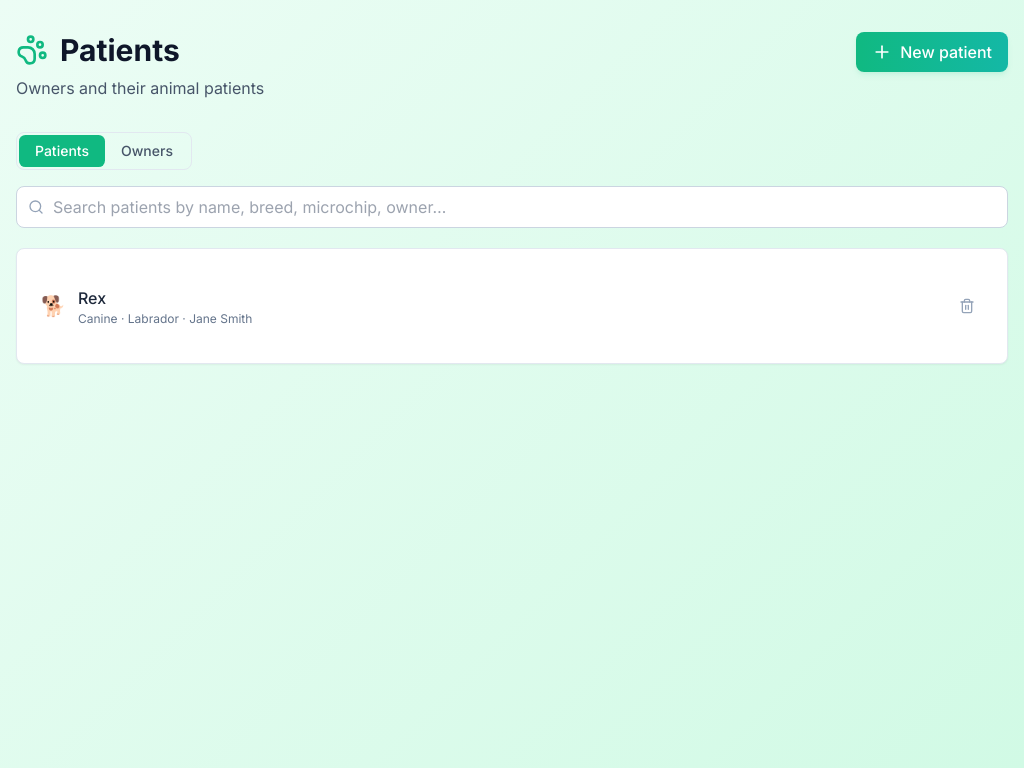
Test: PatientsPage › weight tab shows empty state and loads records
This screenshot has width=1024, height=768.
Click the text "Rex" at (92, 298), box [78,288,106,308]
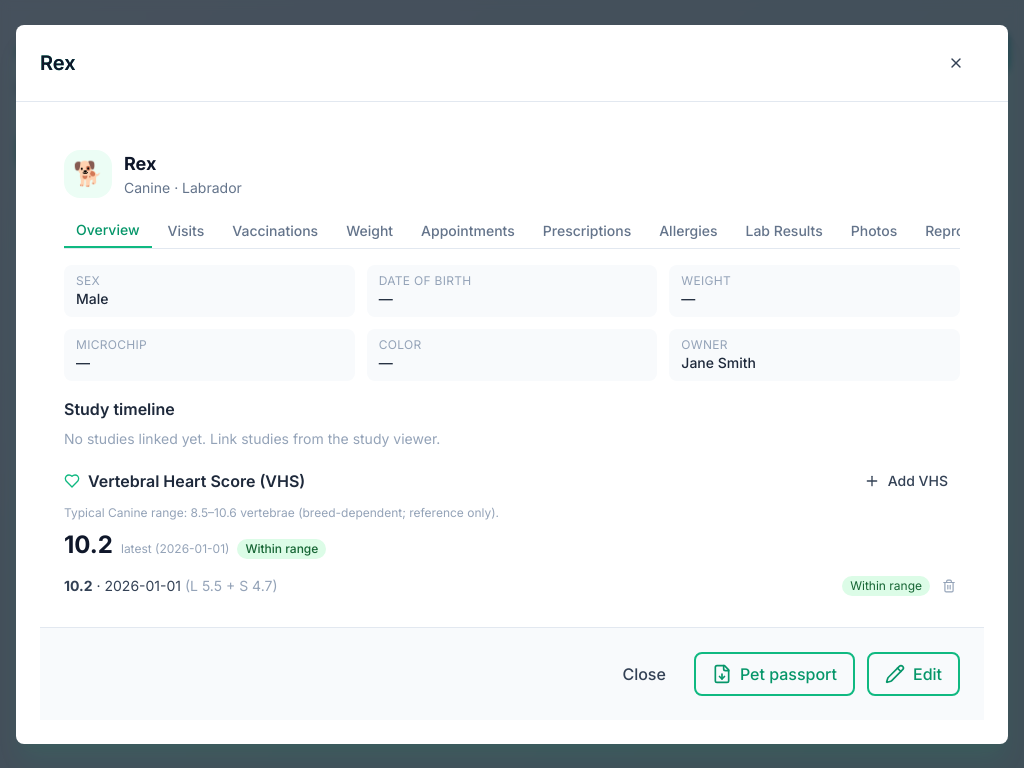
Click the button "Weight" at (370, 230), box [334,214,405,248]
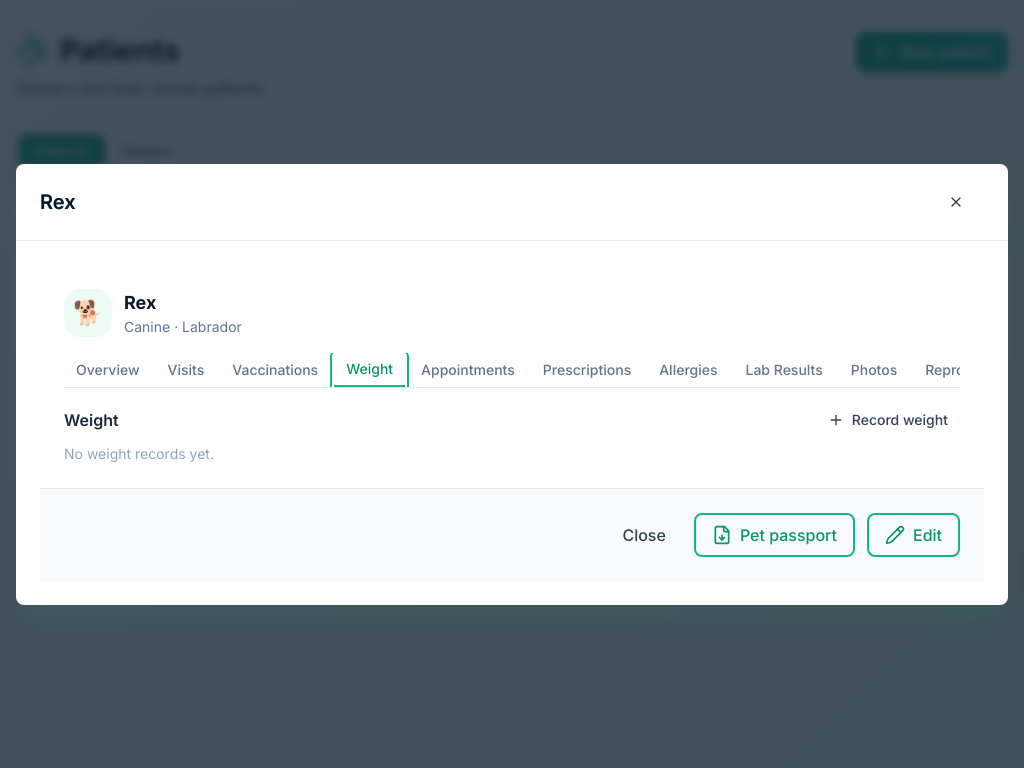
expect the text "No weight records yet." is shown: met, box [64,444,214,462]
